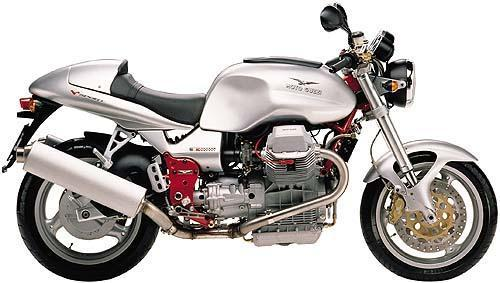motorcycle: (1, 1, 500, 283)
